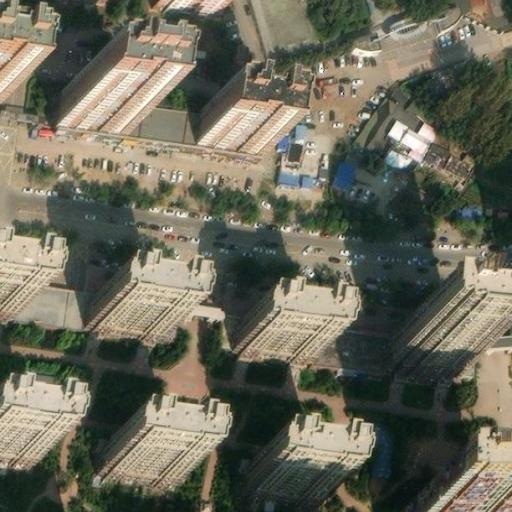building: (60, 94, 198, 136), (0, 280, 104, 323), (253, 451, 342, 495), (109, 431, 198, 475), (95, 288, 184, 331), (239, 314, 327, 357), (61, 71, 135, 121), (194, 97, 267, 144), (393, 331, 478, 369), (390, 484, 496, 512), (0, 269, 35, 307), (401, 123, 432, 149), (331, 155, 356, 184), (386, 143, 413, 166), (384, 110, 409, 134), (159, 0, 225, 9), (416, 114, 438, 136), (129, 291, 161, 300)
